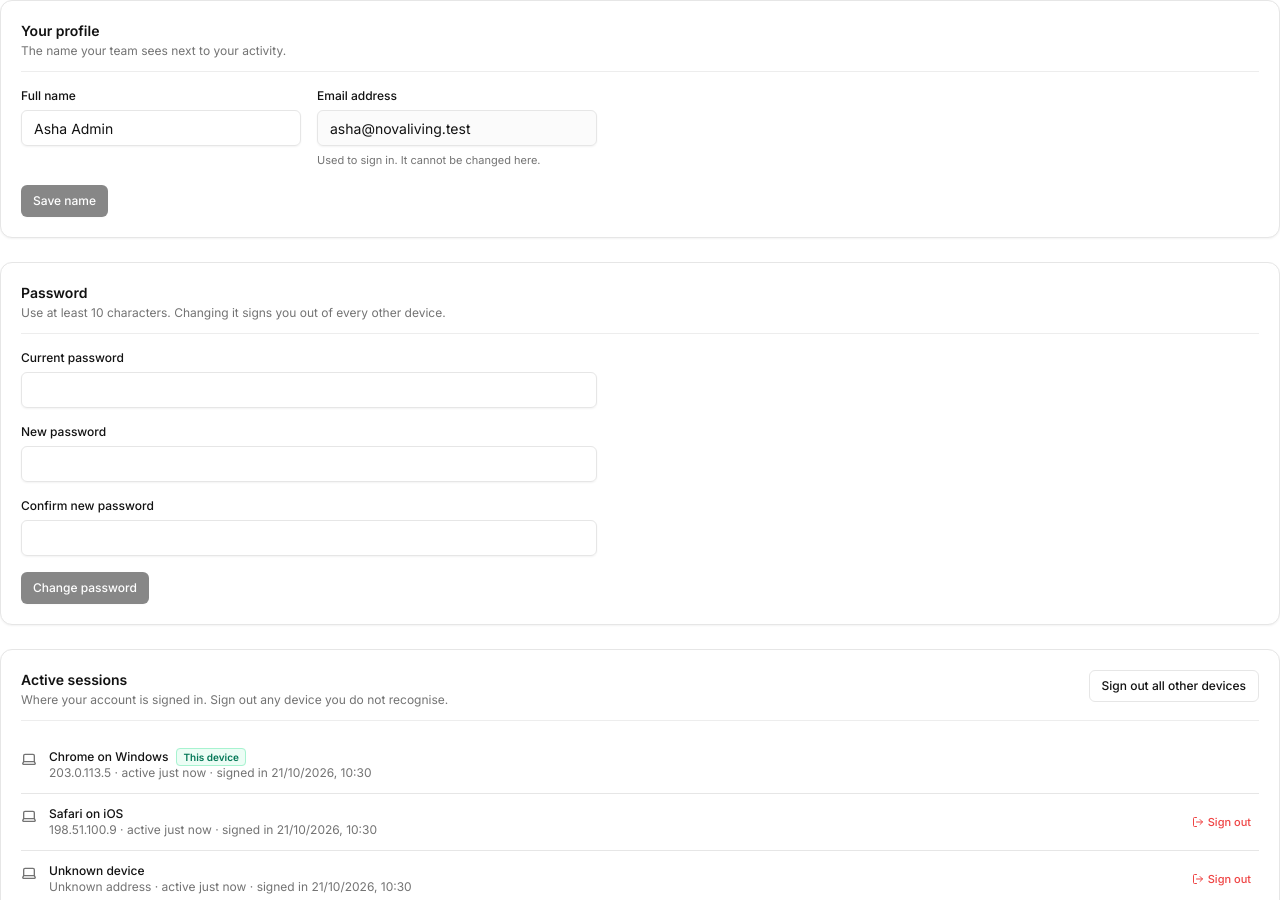
SecurityTab › says so when the other devices could not be signed out
The width and height of the screenshot is (1280, 900).
Click the button "Sign out all other devices" at (1174,686), box [1088,670,1259,702]
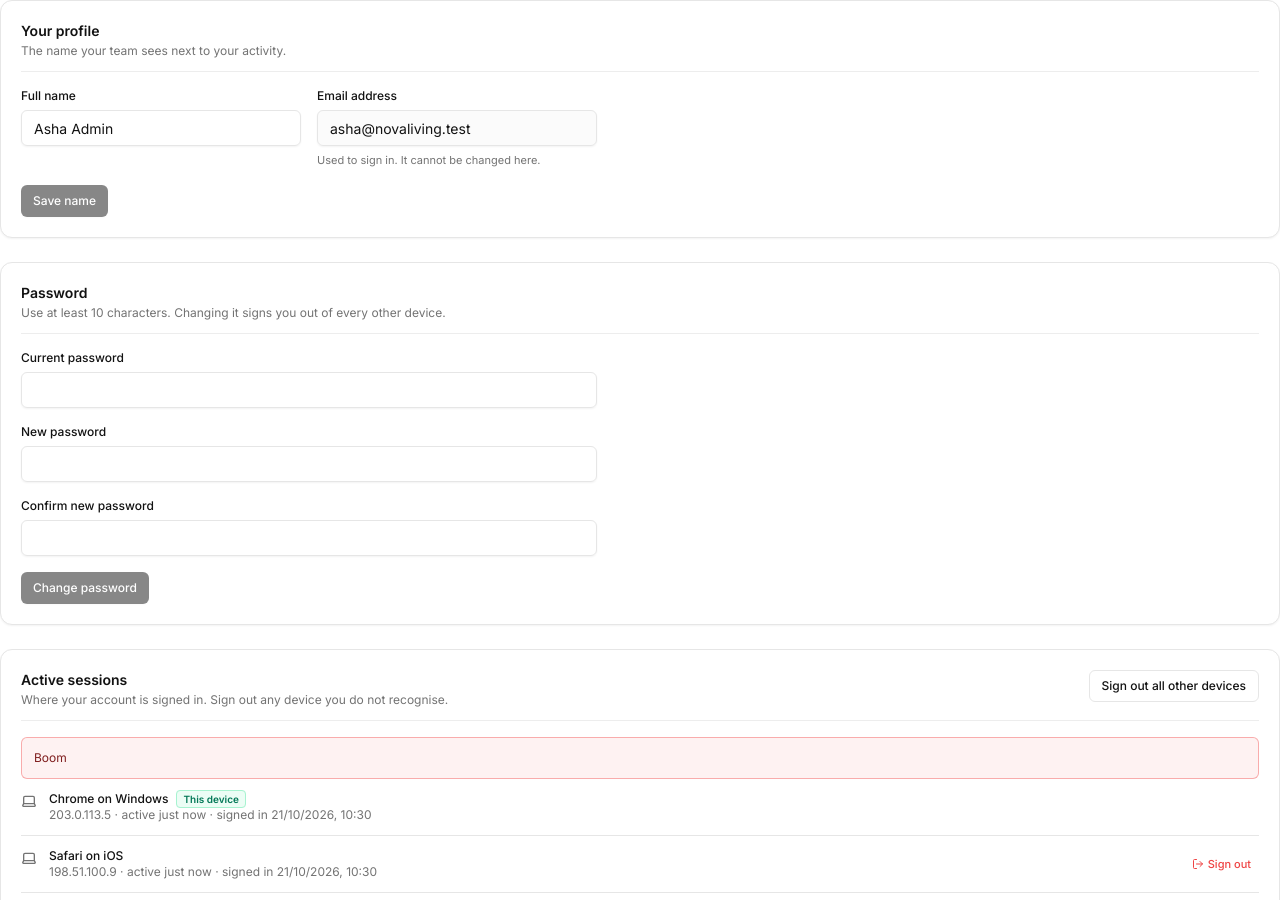
Now the text "Boom" is shown, box [21,736,1259,778]
